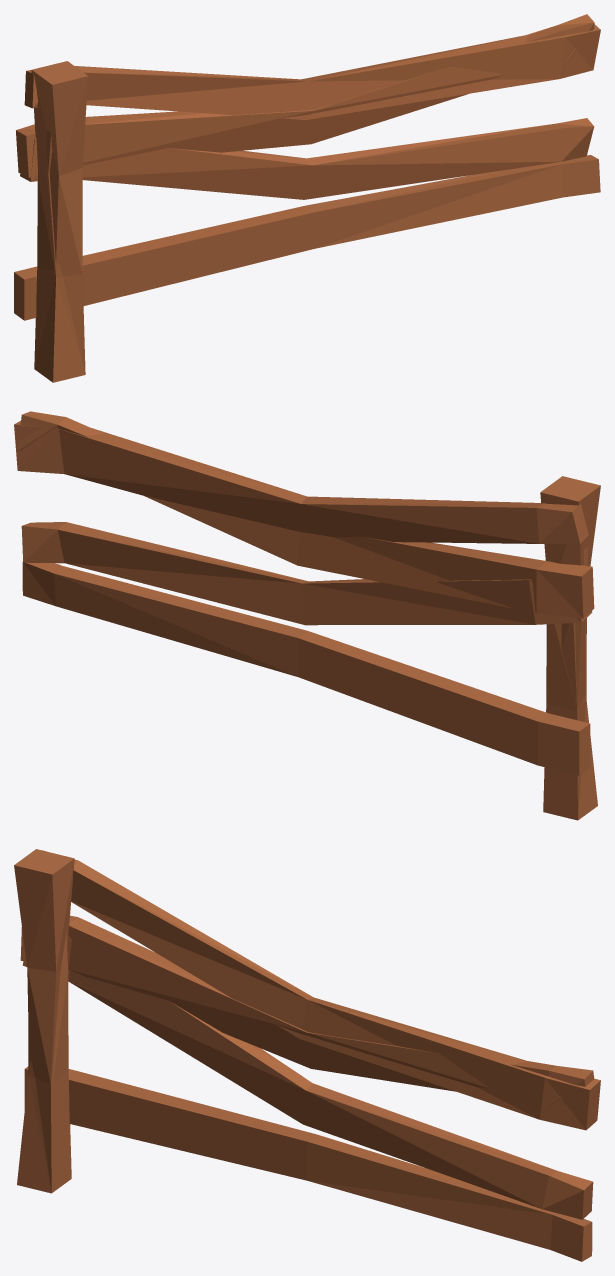
The model's file is SM_Fence.fbx.
The picture shows the model from 3 angles, top to bottom: view 1: azimuth 30°, elevation 25°; view 2: azimuth 150°, elevation 25°; view 3: azimuth 330°, elevation 25°; orthographic projection. The views are drawn at different scales.
Visible parts, largest first — view 1: F_1, F_2, F_Single; view 2: F_1, F_2, F_Single; view 3: F_1, F_2, F_Single.
Boxes of the visible parts, box(x1,y1,x2,y2) form: F_1: box(14, 14, 600, 374); F_2: box(20, 24, 600, 199); F_Single: box(34, 65, 85, 382); F_1: box(17, 411, 600, 819); F_2: box(14, 421, 592, 625); F_Single: box(543, 480, 597, 820); F_1: box(14, 849, 594, 1261); F_2: box(22, 850, 600, 1219); F_Single: box(17, 853, 71, 1193).
Bounding box in the file's own units: 112 × 57.9 × 13.78.
